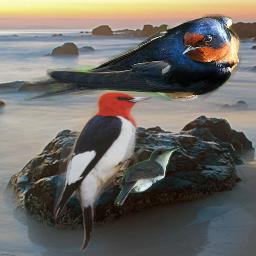Cuckoo: (114, 146, 181, 206)
Swallow: (24, 14, 242, 101)
Woodpecker: (53, 90, 152, 252)
